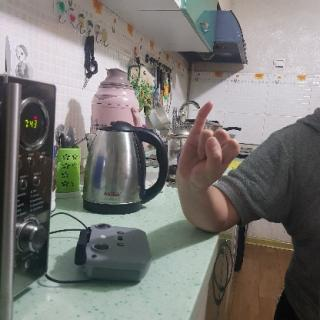MEEM: (175, 99, 240, 193)
